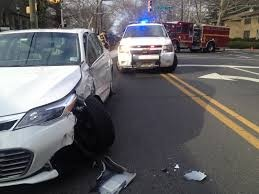Dent: (37, 90, 95, 180)
